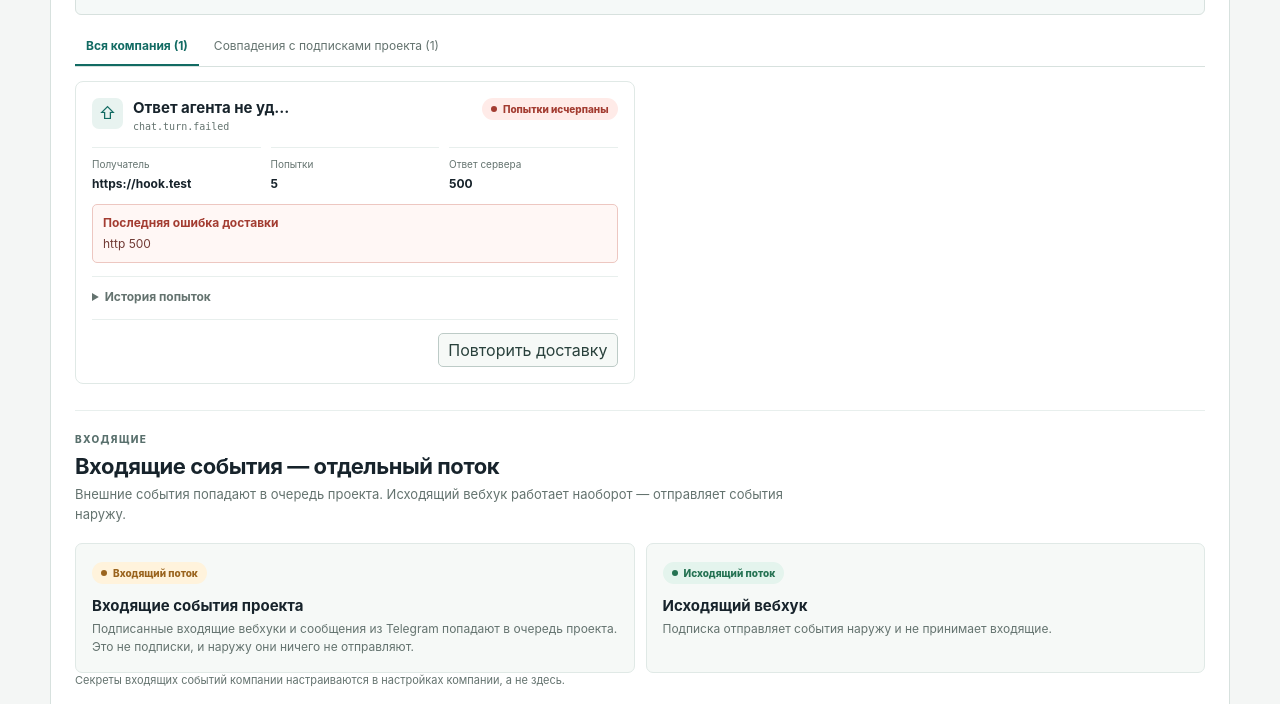
Test: project automations acceptance surface › shows delivery errors and only offers retry for exhausted deliveries
(page scrolled)
Click the button "Повторить доставку": (528, 350) [438, 333, 618, 367]
(page scrolled)
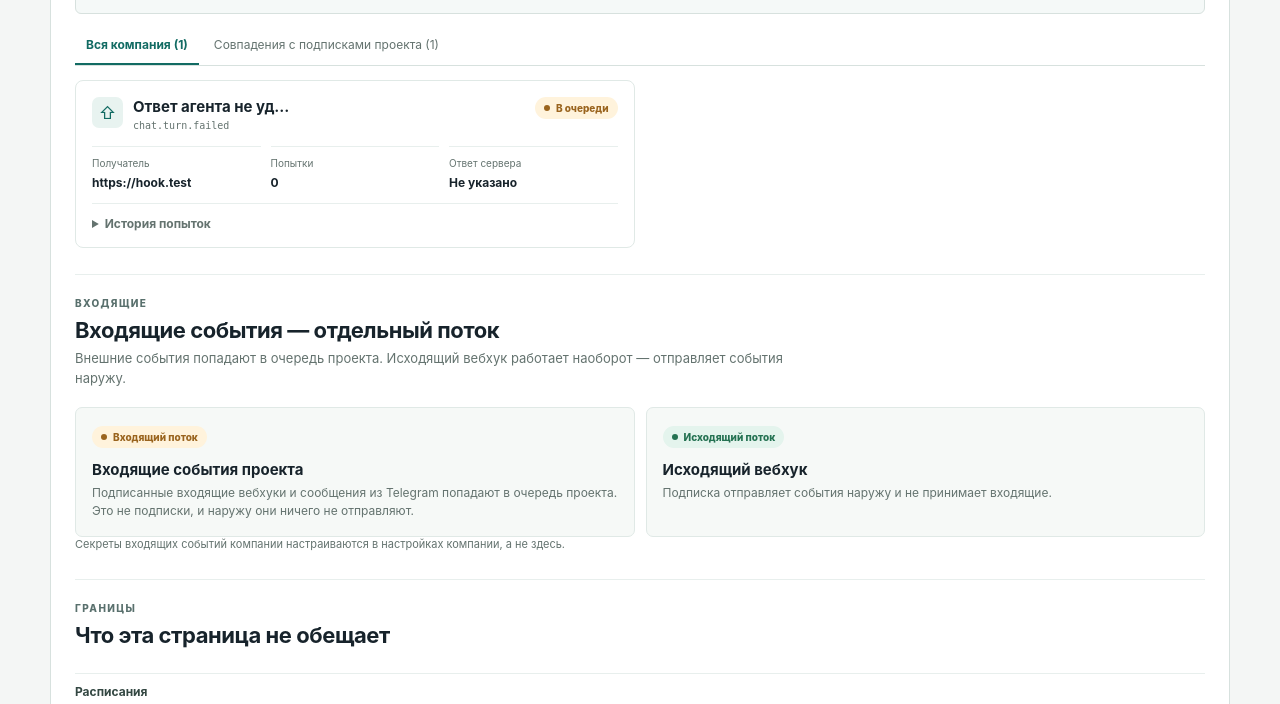
Expected: the text "В очереди" is shown, [535, 97, 618, 119]
Expected: the text "Повторить доставку" is gone
